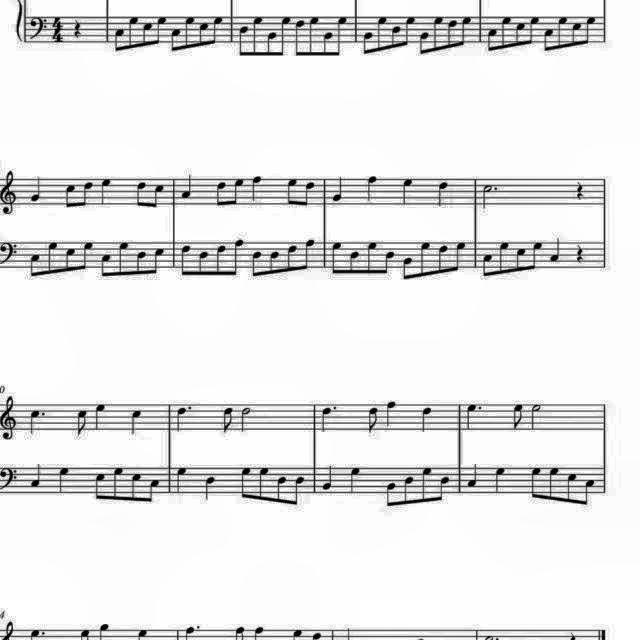Bass-clef: (0, 236, 22, 268), (26, 13, 49, 42), (0, 465, 20, 493)
Eighth-note: (232, 235, 248, 277), (290, 16, 306, 58), (417, 240, 433, 280), (114, 238, 130, 278), (419, 464, 435, 504), (255, 464, 271, 504), (334, 12, 350, 52), (250, 12, 266, 52), (238, 464, 255, 501), (306, 13, 322, 52), (44, 238, 60, 276), (110, 465, 126, 503), (363, 238, 379, 276), (330, 239, 346, 277), (496, 238, 512, 276), (430, 11, 446, 49), (564, 469, 580, 506), (452, 238, 468, 274), (71, 406, 89, 438), (128, 470, 144, 506), (302, 236, 318, 272), (529, 466, 545, 502), (458, 14, 474, 50), (282, 178, 300, 210), (555, 12, 571, 48), (232, 20, 248, 56), (362, 404, 380, 436), (548, 464, 562, 504), (376, 14, 390, 54), (436, 243, 452, 277), (274, 472, 290, 506), (526, 14, 542, 48), (90, 470, 106, 504), (404, 15, 420, 49), (154, 14, 170, 48), (509, 401, 527, 431), (218, 405, 236, 435), (499, 12, 513, 50), (582, 476, 598, 509), (80, 240, 96, 272), (284, 242, 300, 274), (400, 474, 416, 506), (133, 177, 149, 209), (210, 14, 226, 46), (302, 176, 318, 208), (24, 250, 40, 282), (232, 176, 248, 208), (178, 241, 192, 277), (127, 16, 141, 52), (150, 246, 166, 276), (248, 248, 264, 278), (64, 246, 80, 276), (62, 180, 78, 210), (212, 178, 228, 208), (146, 477, 162, 507), (214, 242, 228, 276), (293, 474, 307, 508), (584, 15, 598, 49), (446, 16, 459, 52), (182, 16, 195, 52), (383, 479, 399, 508), (320, 30, 336, 59), (134, 250, 150, 278), (98, 252, 114, 280), (150, 183, 166, 211), (346, 250, 362, 278), (196, 250, 212, 278), (480, 250, 496, 278), (515, 18, 529, 50), (140, 18, 154, 50), (530, 238, 544, 270), (438, 474, 454, 502), (110, 26, 126, 54), (484, 26, 500, 54), (197, 19, 211, 49), (514, 245, 528, 275), (80, 178, 94, 208), (418, 27, 432, 57), (268, 250, 284, 276), (383, 250, 397, 278), (169, 26, 183, 54), (541, 26, 555, 54), (360, 28, 374, 56), (570, 18, 582, 50), (400, 253, 414, 280), (266, 31, 280, 58), (390, 24, 402, 52)
Half-dot: (479, 182, 501, 214)
Half-note: (528, 402, 544, 432), (238, 405, 254, 433)
Quarter-dot: (464, 402, 488, 436), (24, 406, 48, 438), (317, 400, 338, 436), (174, 402, 193, 434)
Quarter-note: (361, 172, 379, 208), (432, 179, 452, 211), (396, 174, 416, 206), (92, 402, 110, 434), (27, 173, 45, 204), (331, 176, 349, 207), (491, 462, 509, 493), (346, 462, 364, 493), (417, 405, 435, 435), (55, 464, 73, 494), (383, 400, 401, 430), (127, 408, 145, 437), (248, 172, 264, 204), (464, 460, 481, 490), (178, 172, 196, 200), (98, 176, 114, 207), (174, 463, 190, 493), (319, 462, 336, 490), (28, 462, 44, 491), (548, 236, 564, 264), (202, 474, 218, 502)
Quarter-rest: (570, 178, 586, 206), (571, 239, 587, 265), (70, 15, 86, 40)
Treble-clef: (0, 394, 20, 446), (0, 166, 20, 218)
